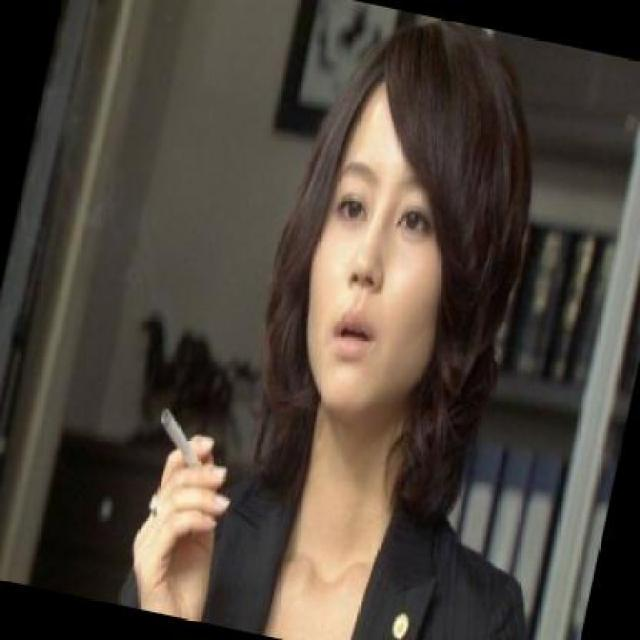cigarette: (148, 405, 210, 473)
